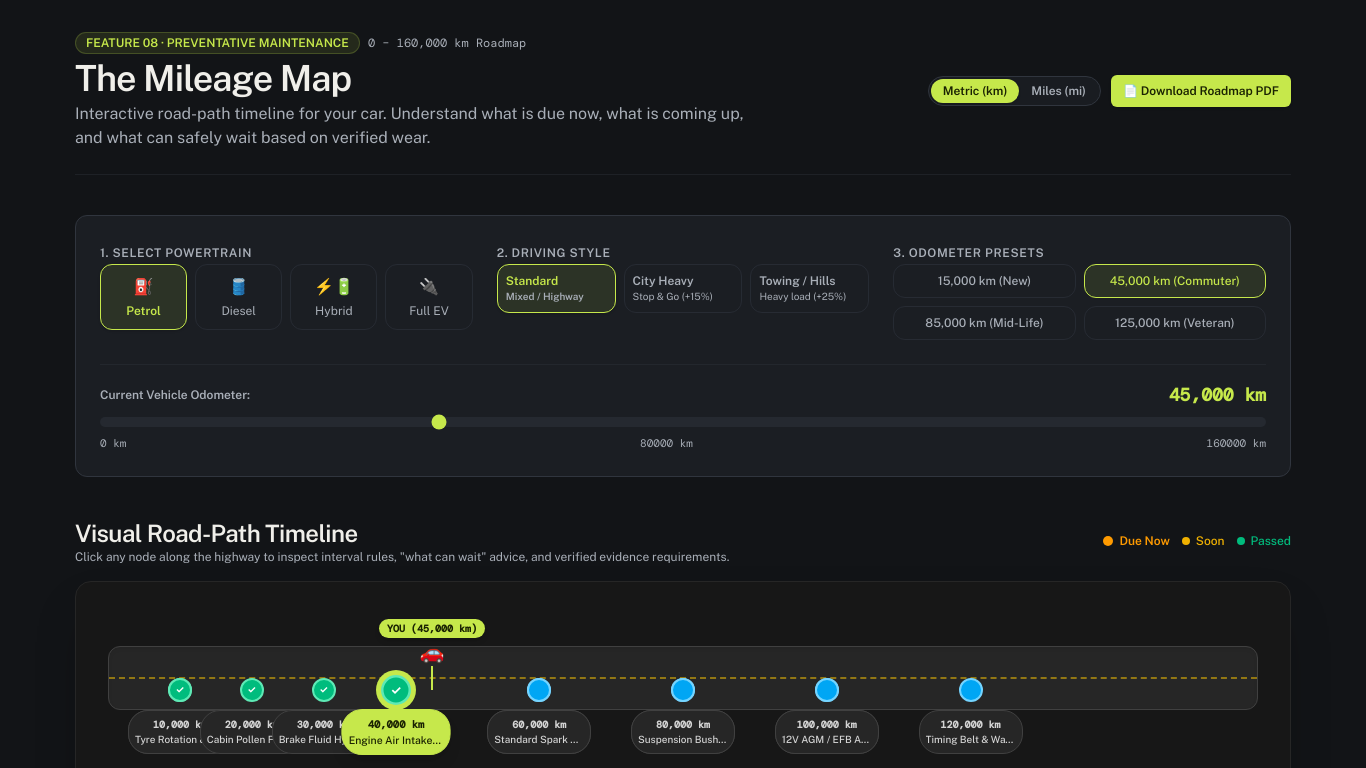
it: The Mileage Map (Feature 08) › opens and closes the Roadmap PDF export preview dialog
Click the button "📄 Download Roadmap PDF": (1201, 91) [1111, 75, 1291, 107]
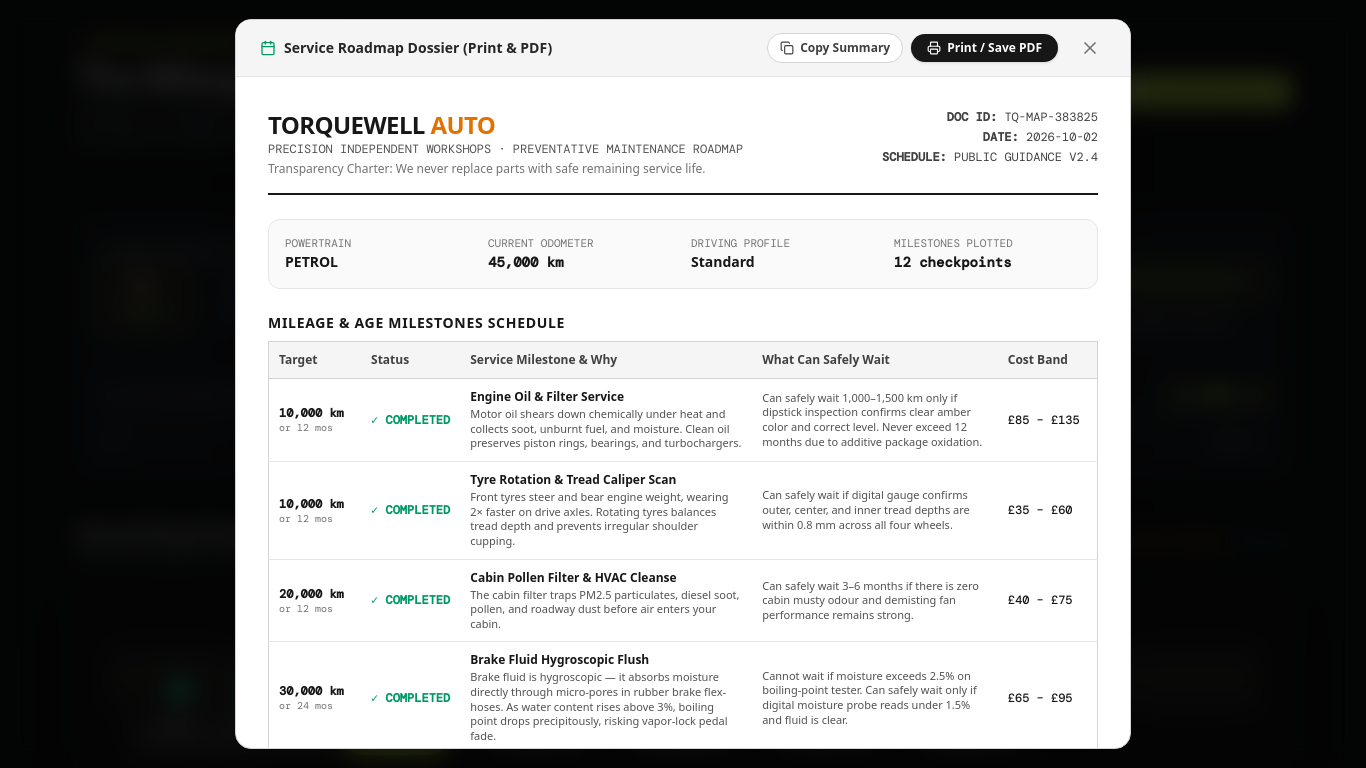
Result: the dialog is shown
Result: the text "Service Roadmap Dossier (Print & PDF)" is shown at [284, 38, 552, 58]
Note: Close button
Click the button named "Close dialog": (1090, 48) [1074, 32, 1106, 64]
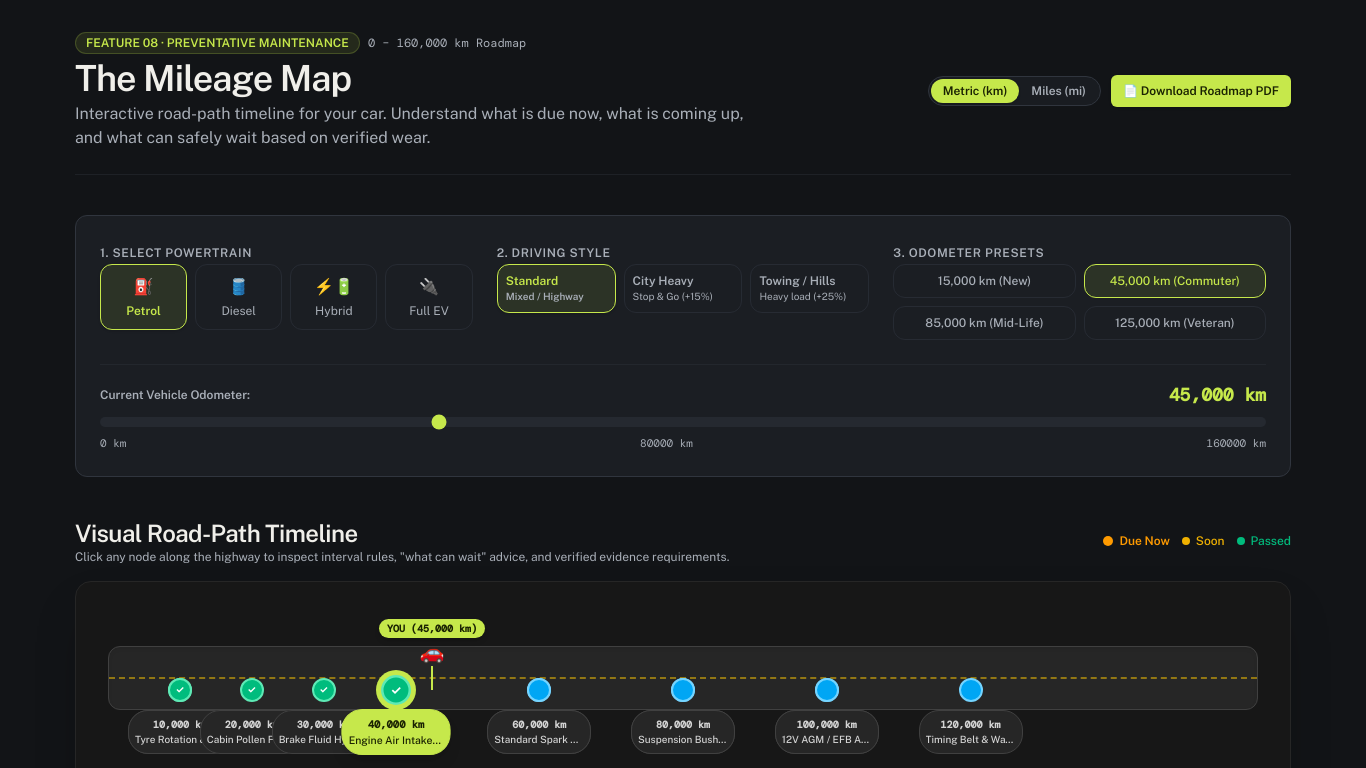
Result: the dialog is gone
